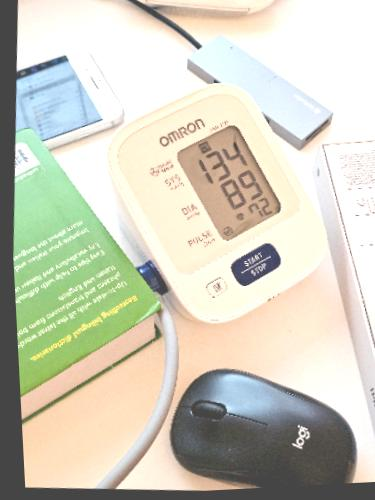bpm: (172, 119, 285, 245)
